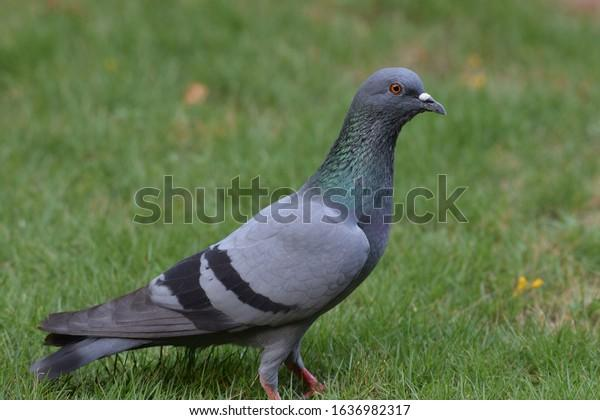Flying Rat: (29, 57, 450, 394)
